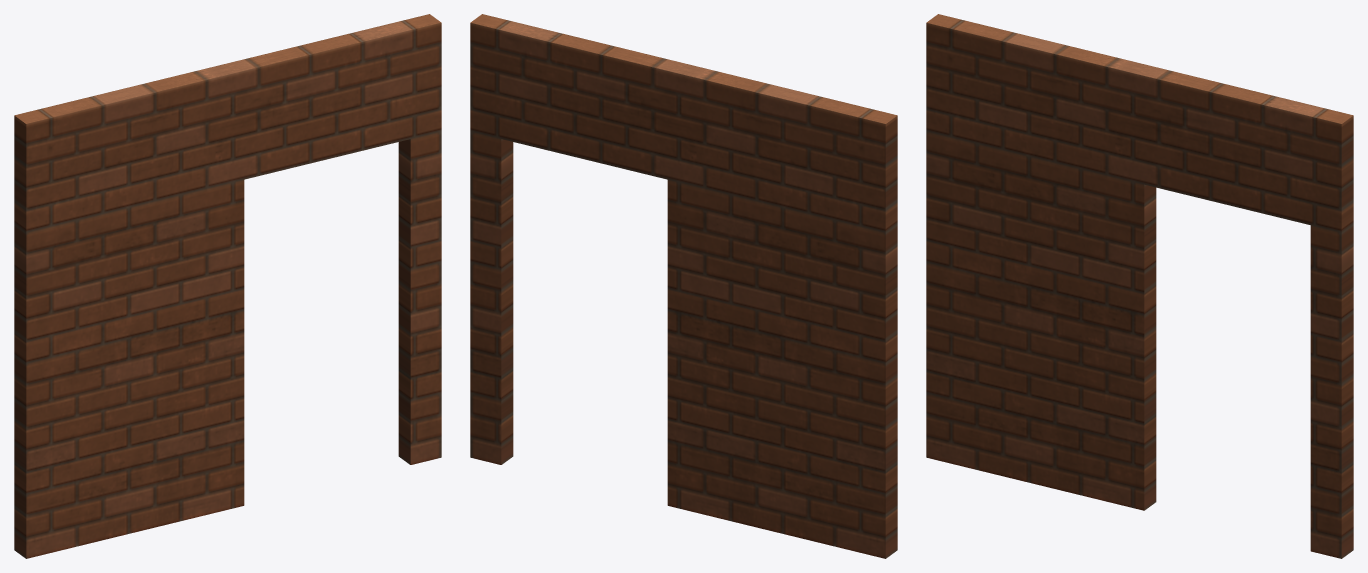
File: wall5_3.fbx
The picture shows the model from 3 angles, left to right: view 1: azimuth 30°, elevation 25°; view 2: azimuth 150°, elevation 25°; view 3: azimuth 330°, elevation 25°; orthographic projection.
Parts seen in each view (by area): view 1: wall5_brick_red_c; view 2: wall5_brick_red_c; view 3: wall5_brick_red_c.
Part boxes in pixels (x1=…): wall5_brick_red_c: x1=14, y1=14, x2=441, y2=558; wall5_brick_red_c: x1=470, y1=14, x2=897, y2=558; wall5_brick_red_c: x1=926, y1=14, x2=1353, y2=558.
Size of the model in its own units: 400 by 400 by 20.
